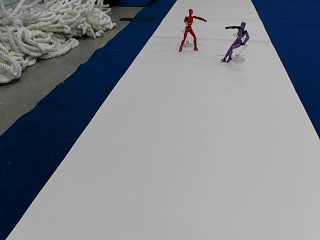pedestrian: (179, 9, 207, 51), (222, 20, 249, 61)
